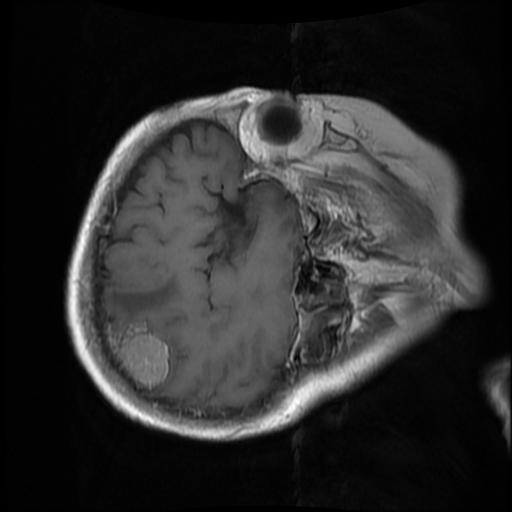meningioma: (105, 319, 170, 388)
